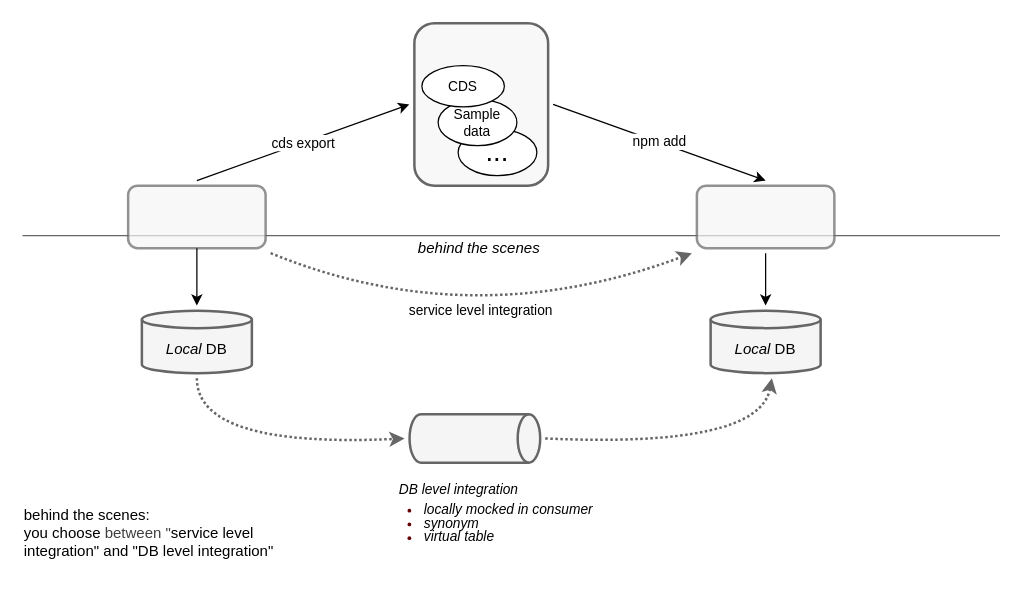
The diagram is 1023 pixels wide and 614 high, and some of its shapes have lost their labels. Here are the shapes that lost their labels. From the top down, the box of each, then its label:
(412, 21, 549, 186): API package
(126, 184, 266, 249): Producer
(695, 184, 835, 249): Consumer
